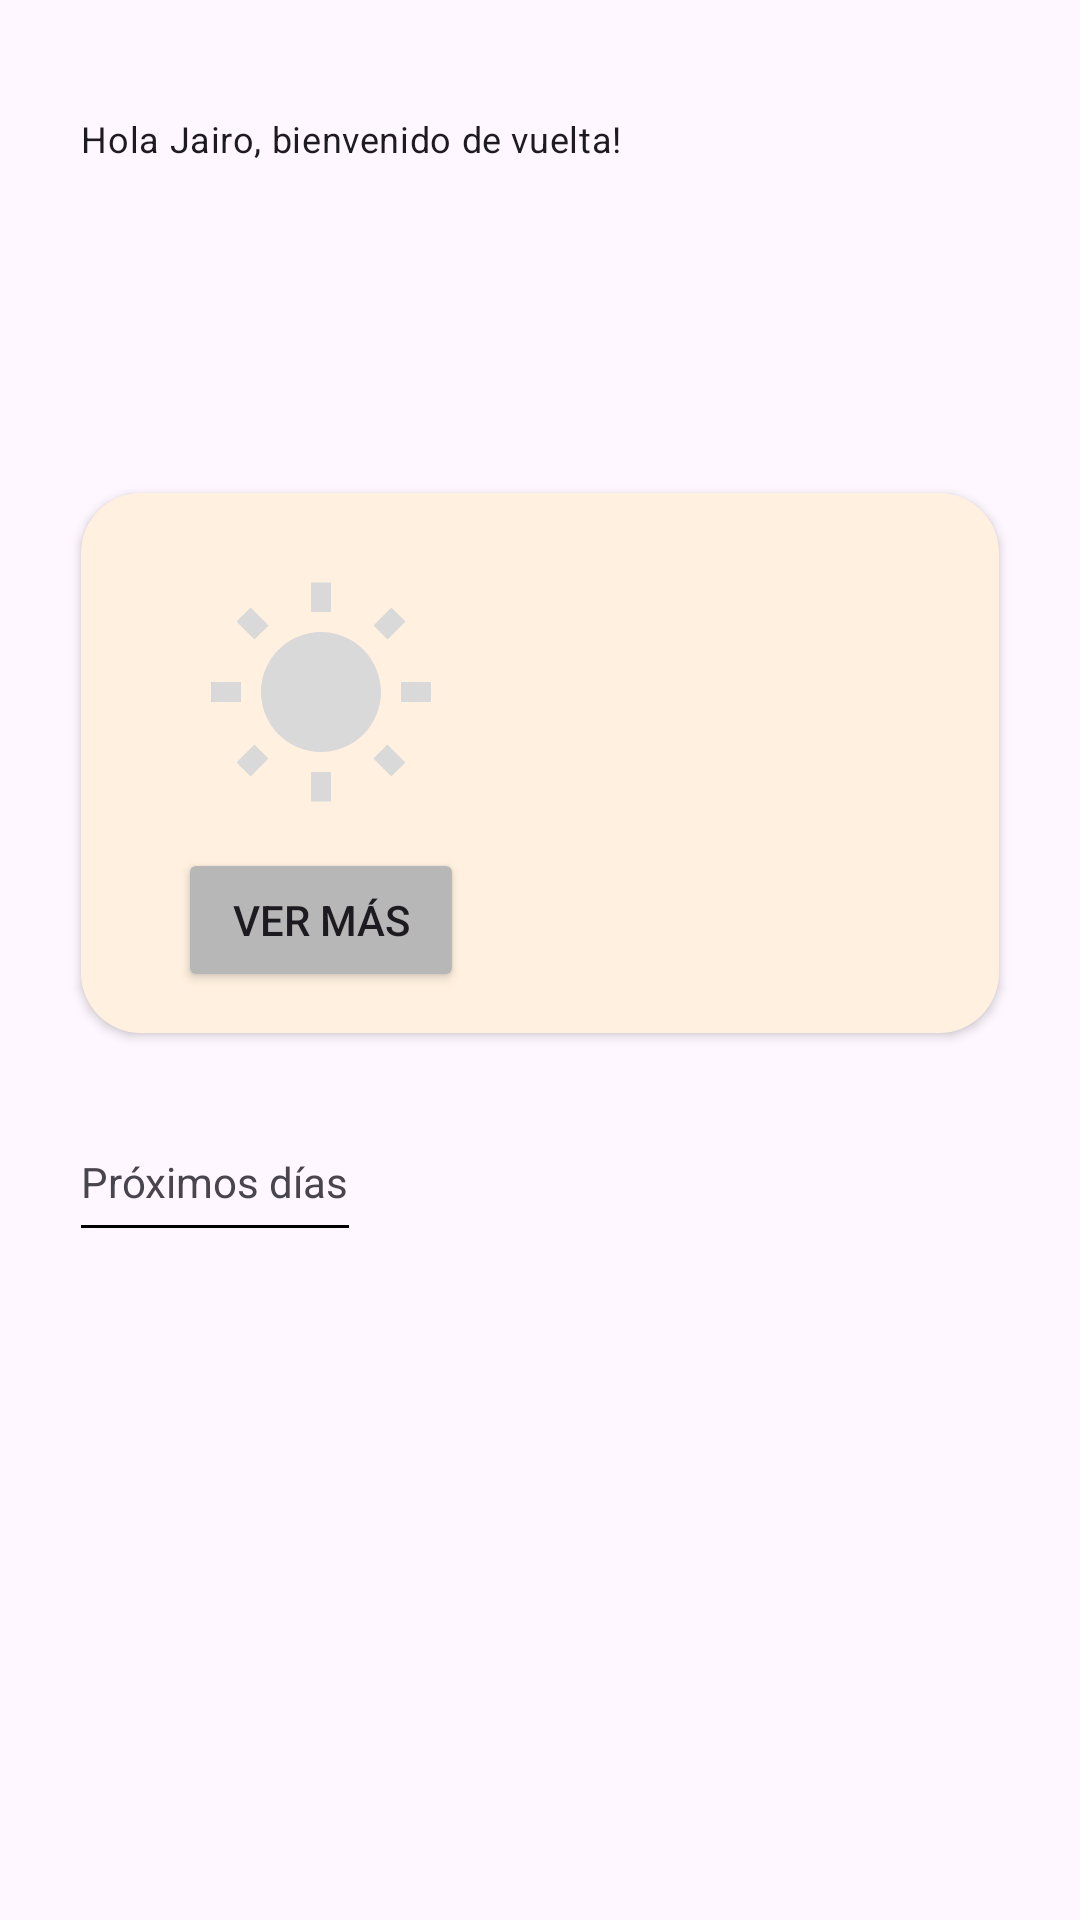

Where icons sit on this 1080 x 1920 app screen, as (x1=x1, y1=y1, x2=x2, y2=y2):
sunny: (x1=211, y1=583, x2=431, y2=801)
